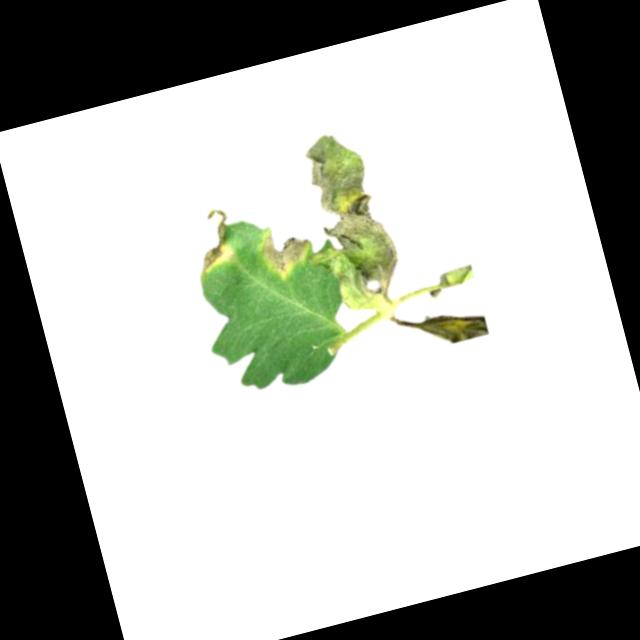Late_blight: (283, 123, 412, 320), (186, 204, 240, 276), (257, 221, 313, 282)
